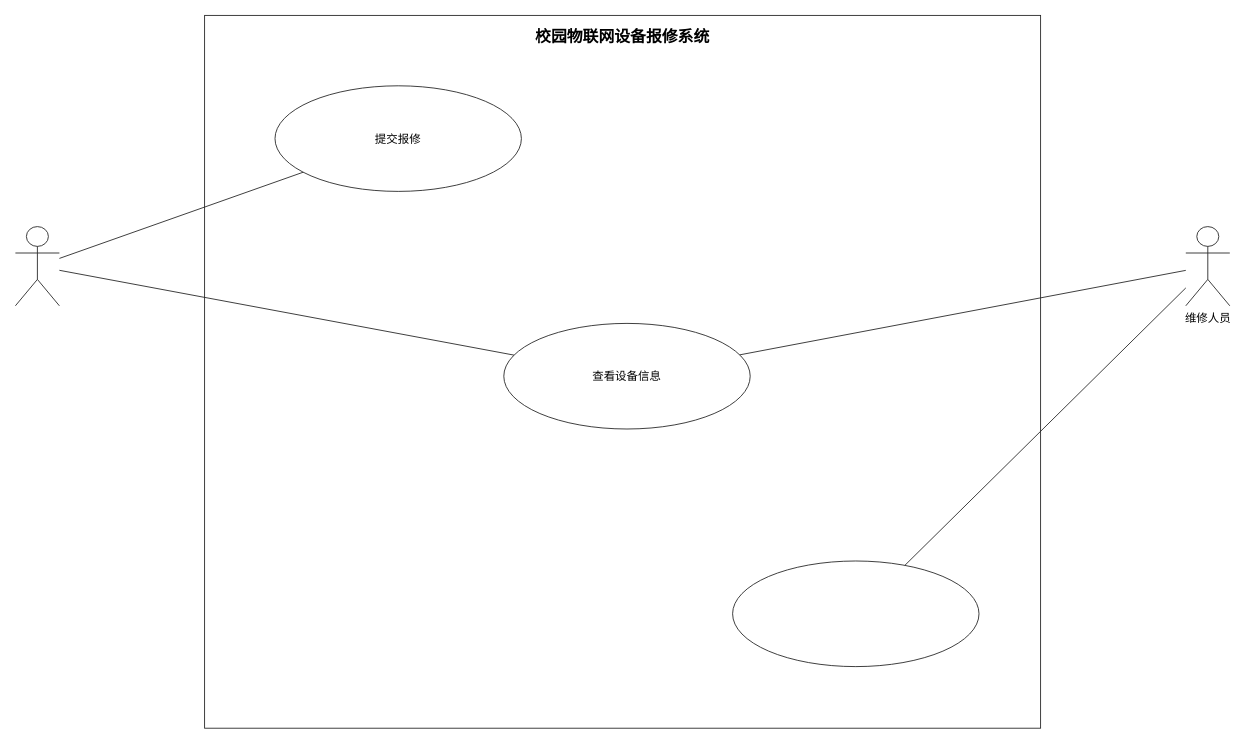
The diagram is 1246 pixels wide and 744 high, and some of its shapes have lost their labels. Each missing label, with the centre of its shape:
"报修人" goes at (37,266).
"更新工单状态" goes at (855,613).
